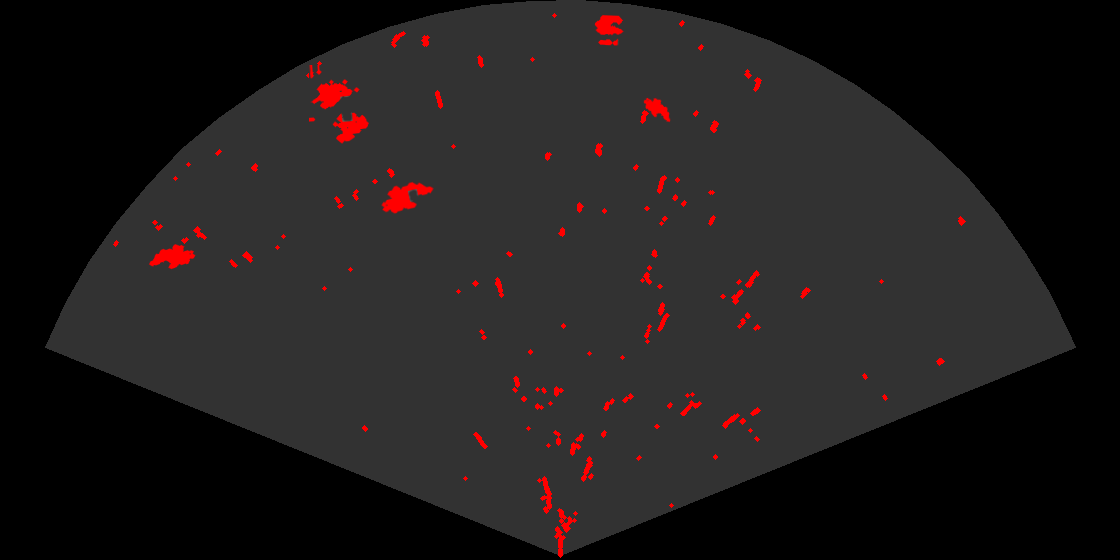AUV: (380, 180, 435, 215), (148, 243, 197, 271), (642, 96, 672, 124)
ball: (593, 13, 625, 47)
cage: (309, 65, 370, 145)
